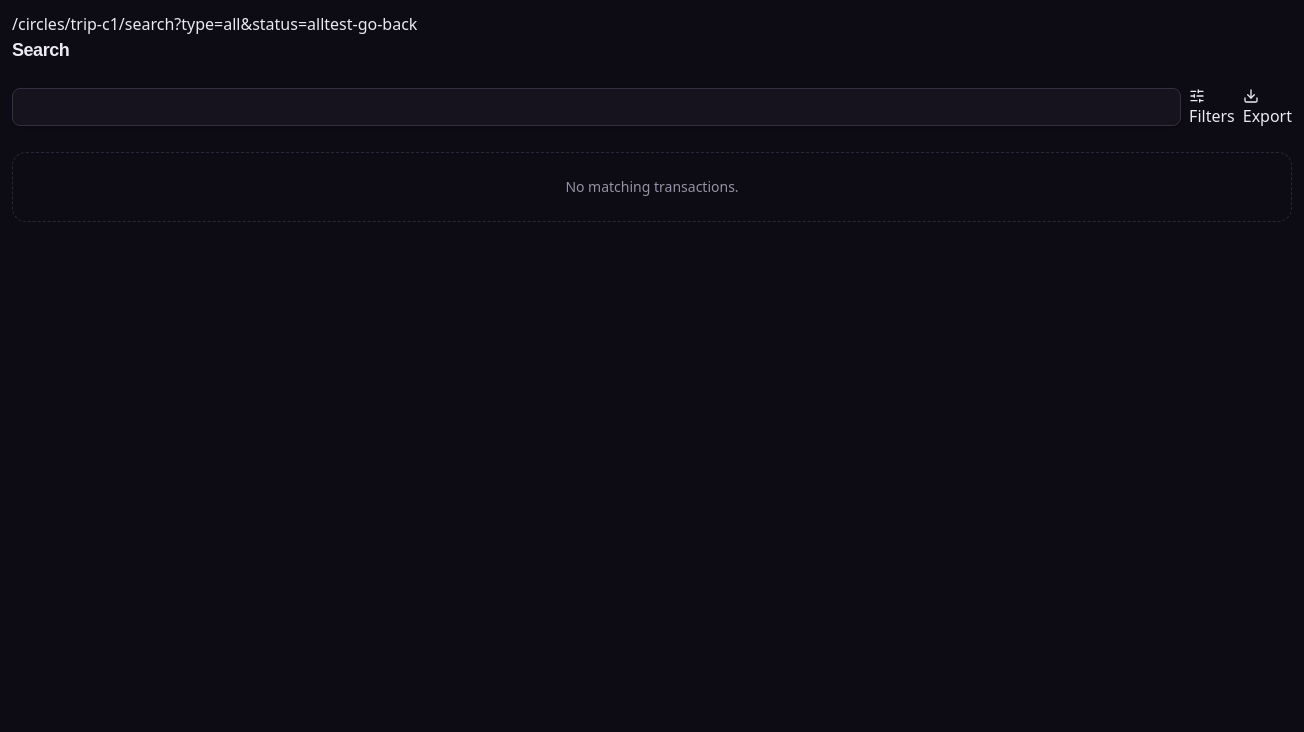
Test: CircleSearch › shows an error when the export query rejects
The width and height of the screenshot is (1304, 732).
Click the button "Export": (1267, 108) [1243, 88, 1292, 128]
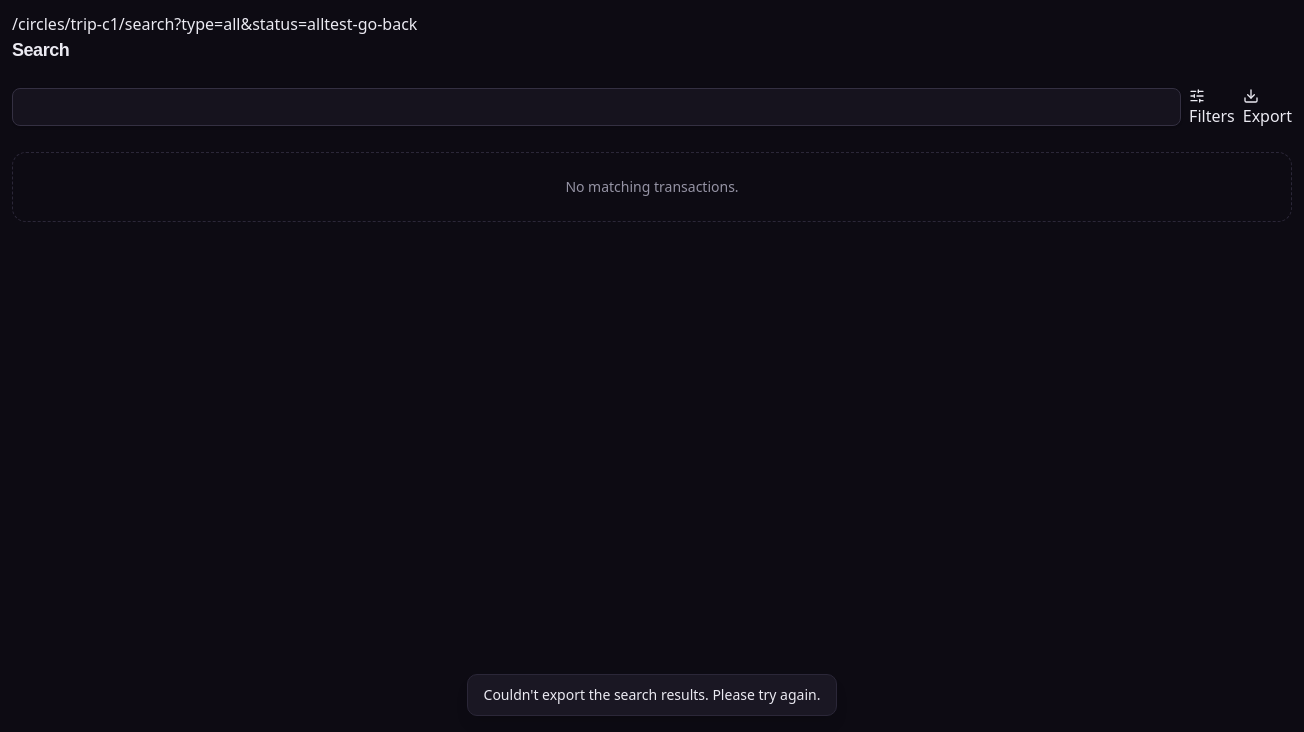
Expected: the text "Couldn't export the search results. Please try again." is shown, [466, 674, 837, 716]
